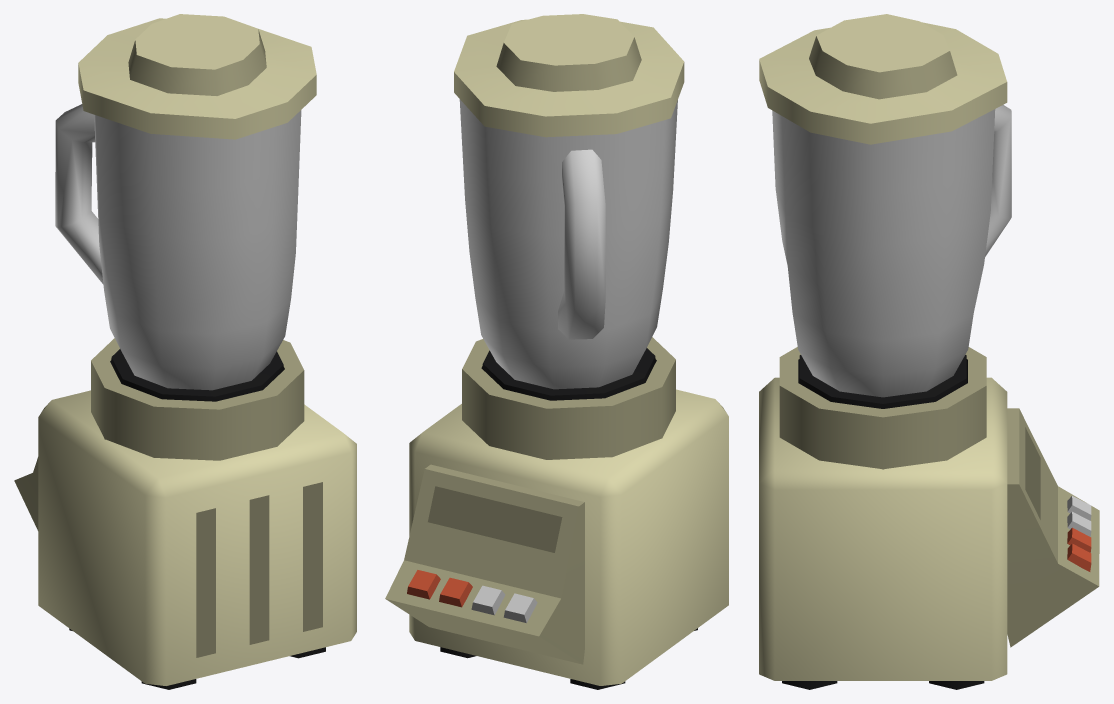
File: blender.fbx
3 views of the same model, side by side, from view 1: azimuth 30°, elevation 25°; view 2: azimuth 150°, elevation 25°; view 3: azimuth 270°, elevation 25° (orthographic).
Parts seen in each view (by area): view 1: Blender, Blender_Container; view 2: Blender, Blender_Container; view 3: Blender, Blender_Container.
Part boxes in pixels (x1,y1,x2,y2): Blender: (14, 338, 356, 689); Blender_Container: (55, 14, 316, 401); Blender: (385, 337, 728, 689); Blender_Container: (454, 14, 684, 400); Blender: (759, 347, 1099, 689); Blender_Container: (759, 14, 1011, 408).
Size of the model in its own units: 0.2735 by 0.7183 by 0.3706.
